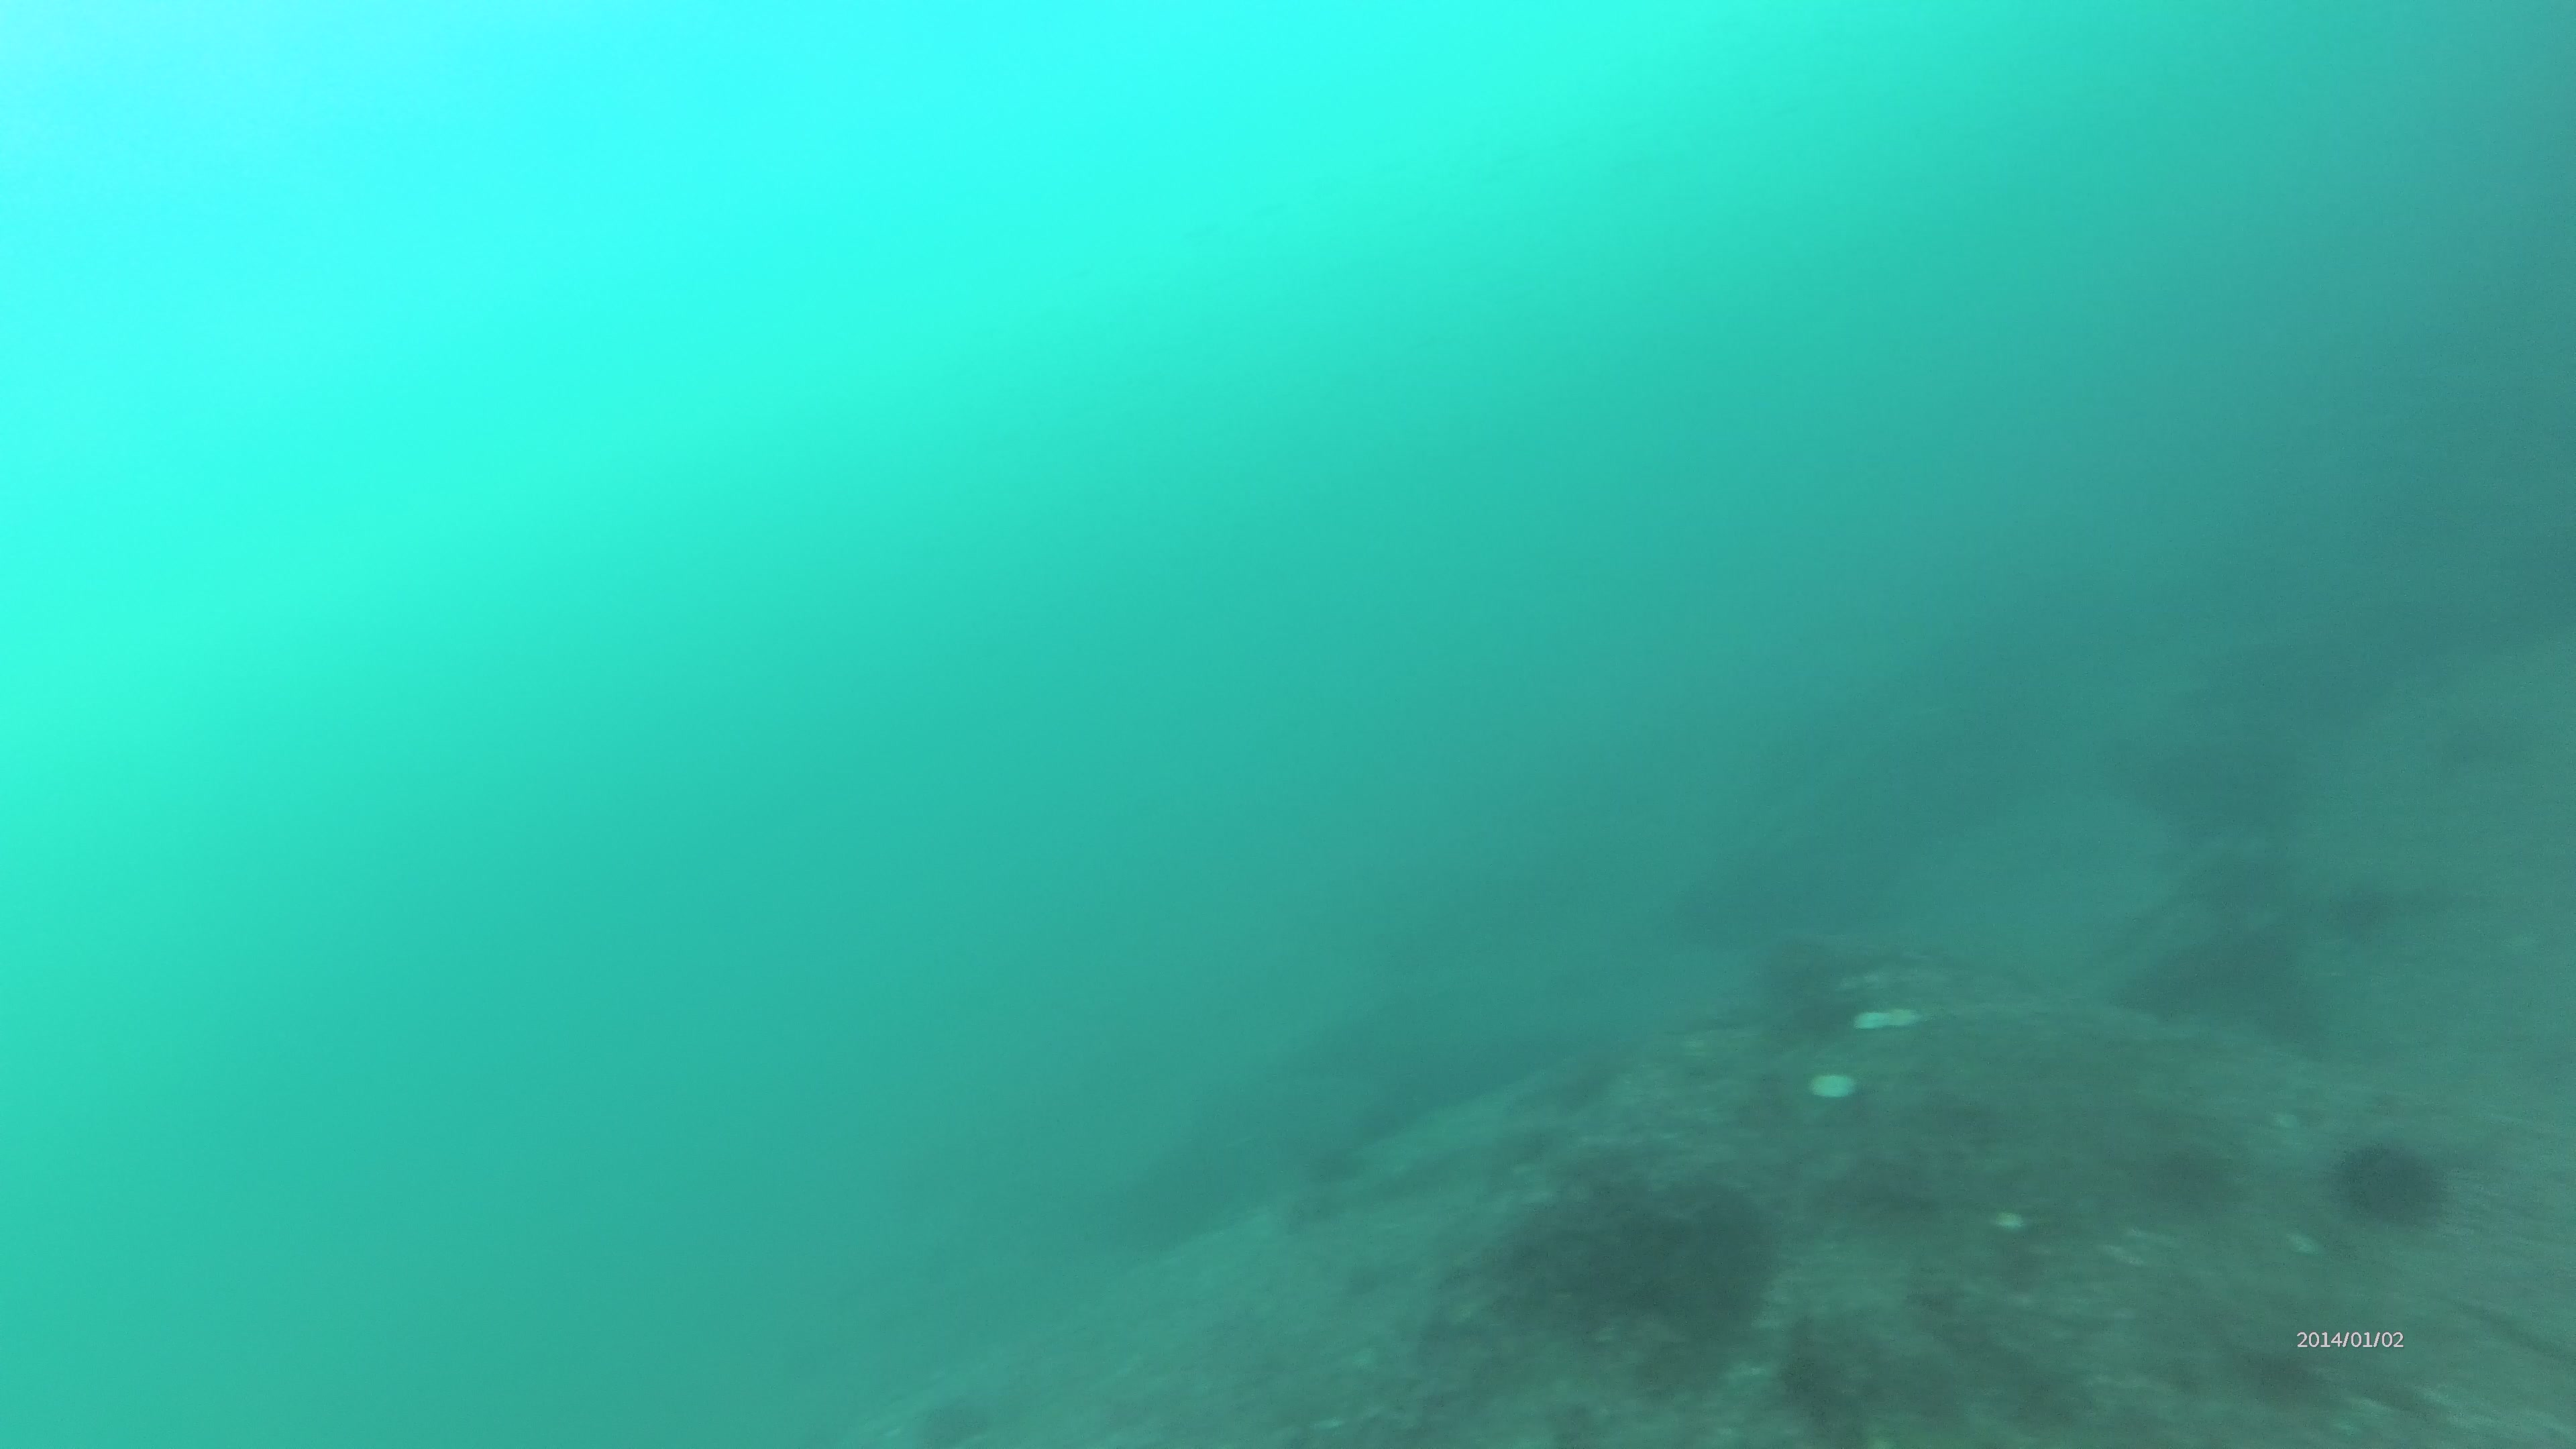echinus: (2321, 1136, 2454, 1214), (1748, 936, 1842, 1005), (893, 1391, 1001, 1440)
